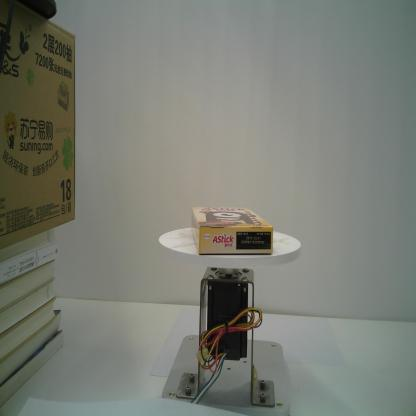Dessert: (190, 204, 275, 257)
